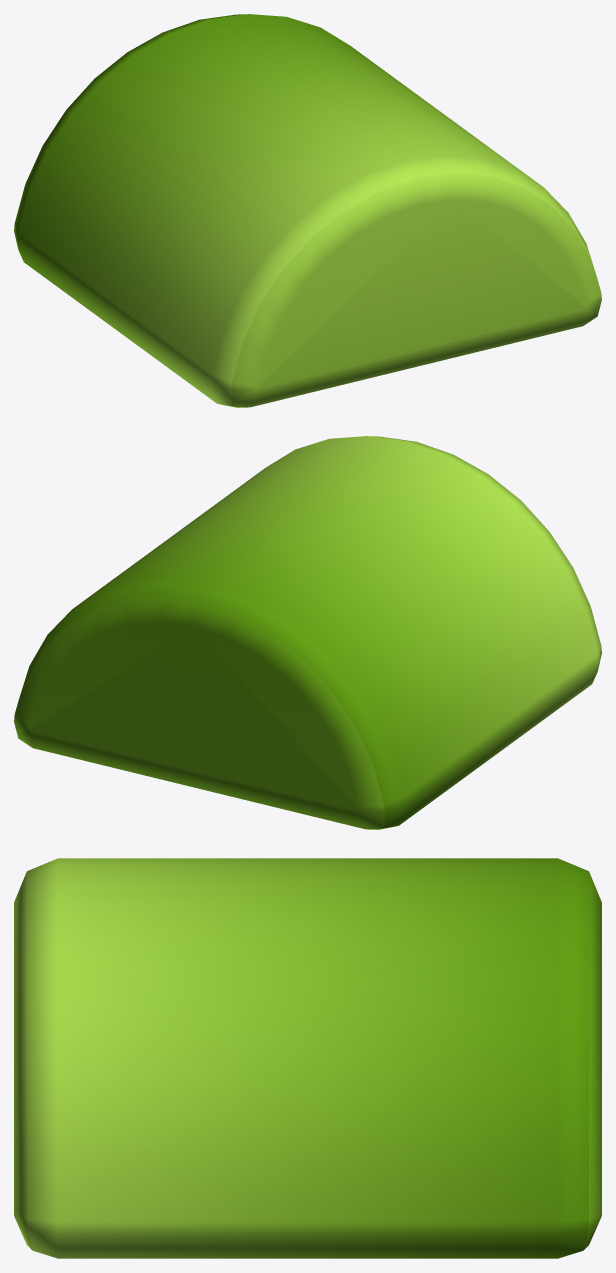
Rendered from BlockDomedRoofGreen.fbx.
The picture shows the model from 3 angles, top to bottom: view 1: azimuth 30°, elevation 25°; view 2: azimuth 150°, elevation 25°; view 3: azimuth 270°, elevation 25°; orthographic projection. The views are drawn at different scales.
Visible parts, largest first — view 1: Cylinder.003; view 2: Cylinder.003; view 3: Cylinder.003.
Boxes of the visible parts, x1,y1,x2,y2 form: Cylinder.003: (14, 14, 601, 407); Cylinder.003: (14, 436, 601, 829); Cylinder.003: (14, 858, 601, 1258).
Bounding box in the file's own units: 197 × 100 × 200.
